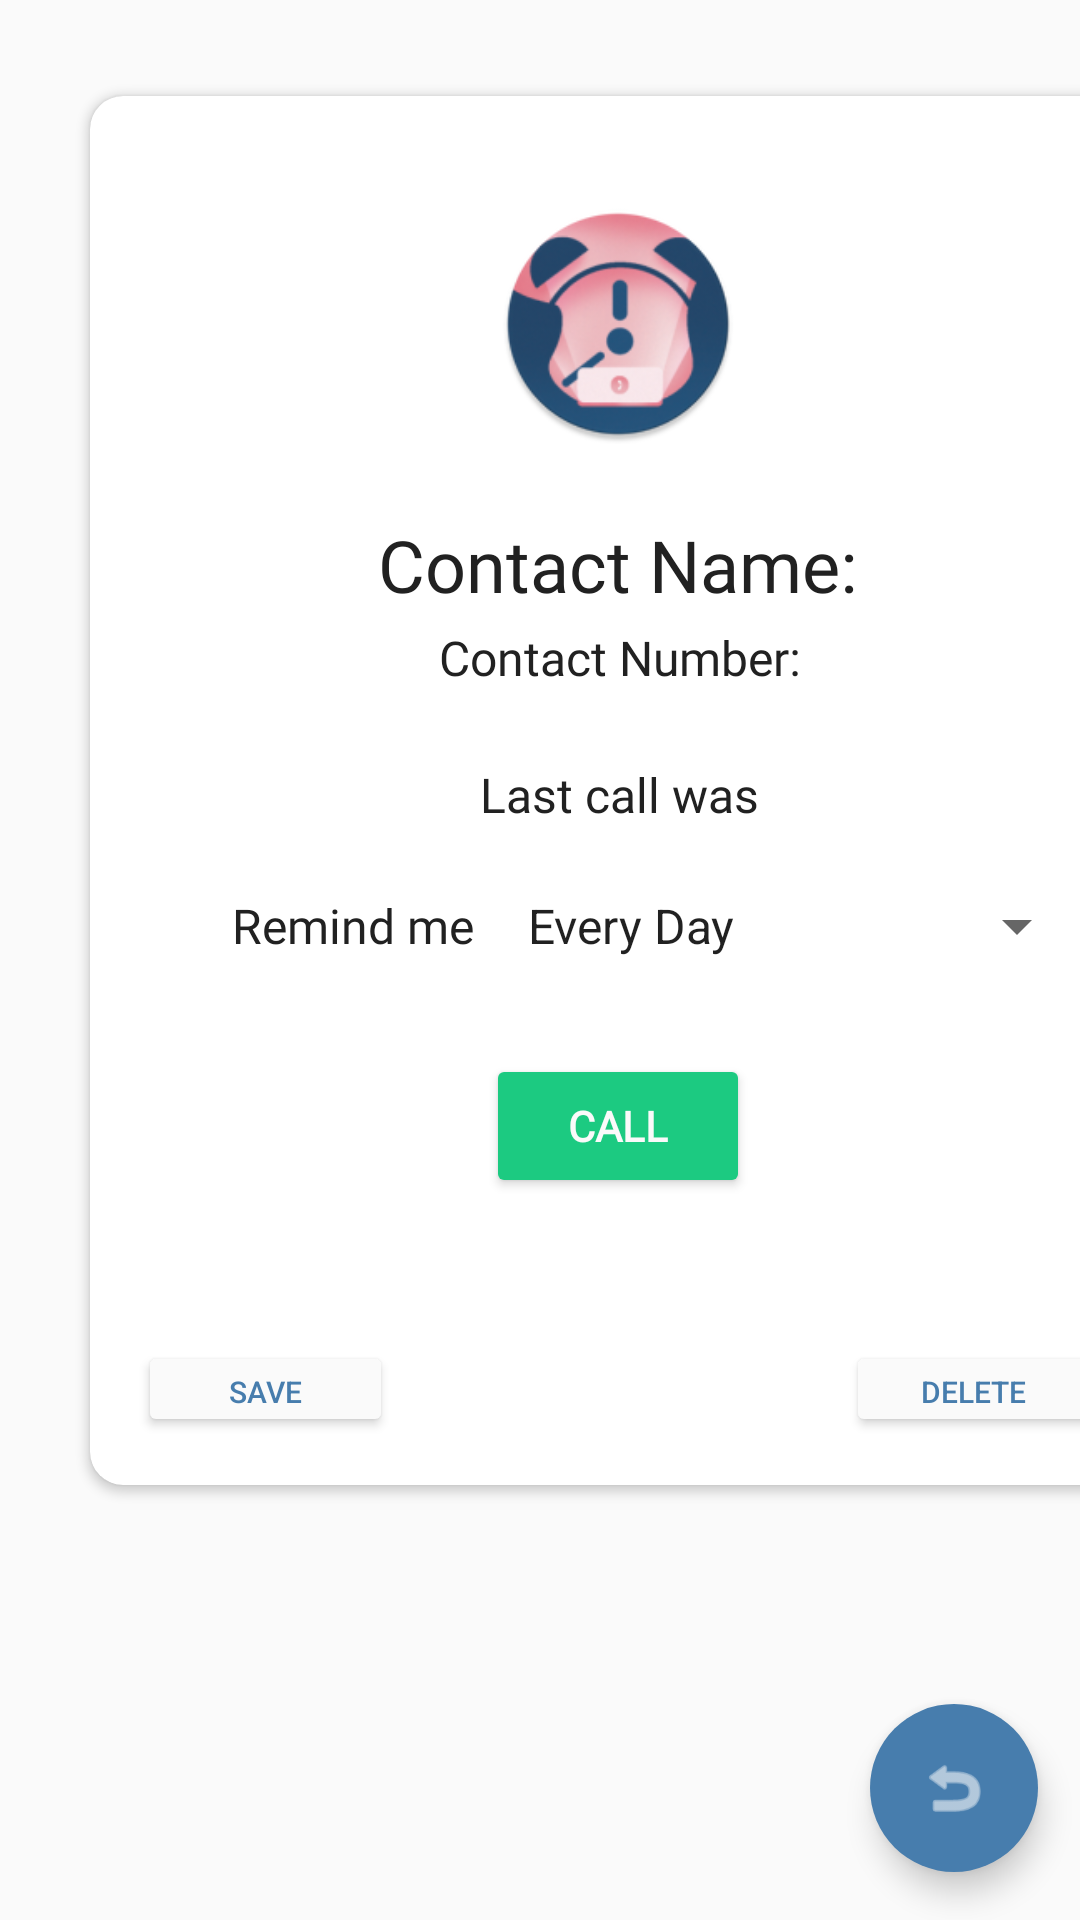

Screen size 1080 x 1920. Icon name, then its box in pixels as region(x1, y1, x2, y2):
revert: region(870, 1704, 1038, 1872)
